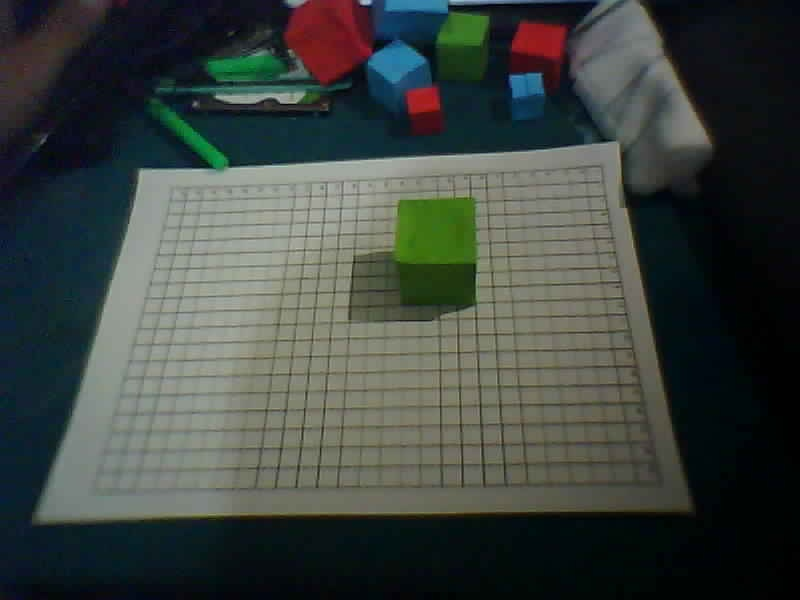LB: (91, 487, 99, 493)
LT: (168, 184, 176, 190)
RB: (654, 480, 662, 486)
RT: (598, 163, 606, 169)
